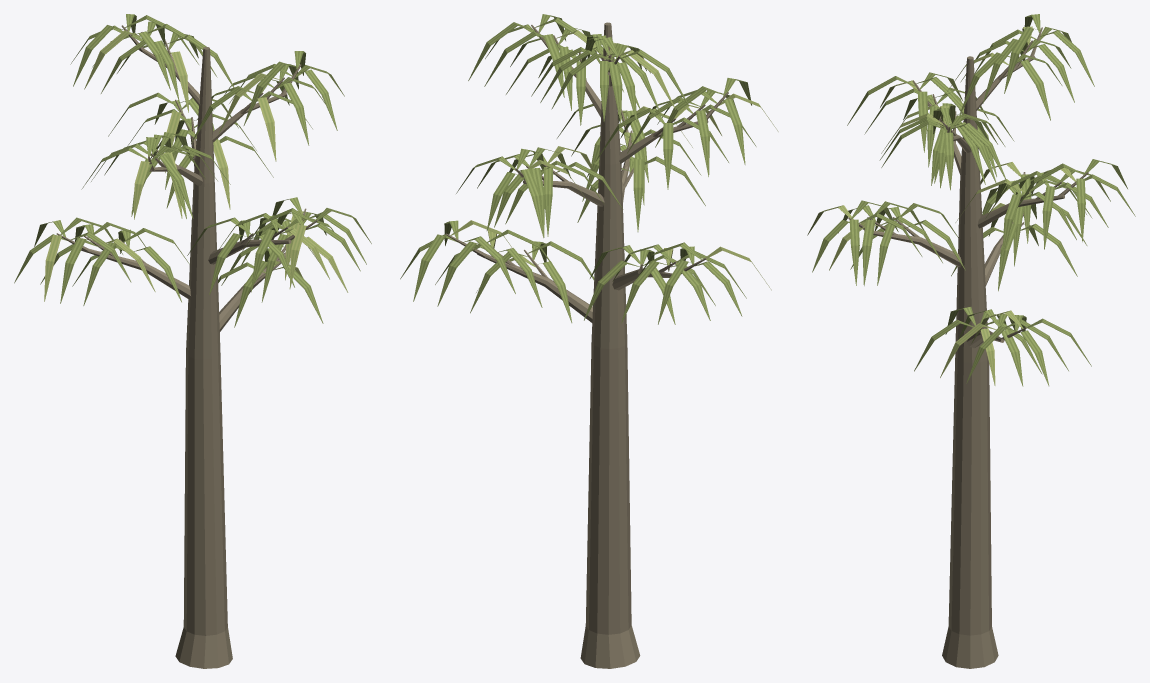
The picture shows the model from 3 angles, left to right: view 1: azimuth 30°, elevation 25°; view 2: azimuth 150°, elevation 25°; view 3: azimuth 270°, elevation 25°; orthographic projection. The views are drawn at different scales.
Visible parts, largest first — view 1: upland-juvenile-trunk-and-upper-woody-crown, individual-parallel-sided-strap-leaves-equal-vein-bands; view 2: individual-parallel-sided-strap-leaves-equal-vein-bands, upland-juvenile-trunk-and-upper-woody-crown; view 3: individual-parallel-sided-strap-leaves-equal-vein-bands, upland-juvenile-trunk-and-upper-woody-crown.
Boxes of the visible parts, x1=… form: upland-juvenile-trunk-and-upper-woody-crown: x1=56, y1=25, x2=317, y2=668; individual-parallel-sided-strap-leaves-equal-vein-bands: x1=14, y1=14, x2=371, y2=327; individual-parallel-sided-strap-leaves-equal-vein-bands: x1=400, y1=14, x2=778, y2=324; upland-juvenile-trunk-and-upper-woody-crown: x1=445, y1=22, x2=728, y2=668; individual-parallel-sided-strap-leaves-equal-vein-bands: x1=807, y1=14, x2=1135, y2=386; upland-juvenile-trunk-and-upper-woody-crown: x1=848, y1=27, x2=1088, y2=668.
Size of the model in its own units: 3.86 by 7.2 by 3.48.
